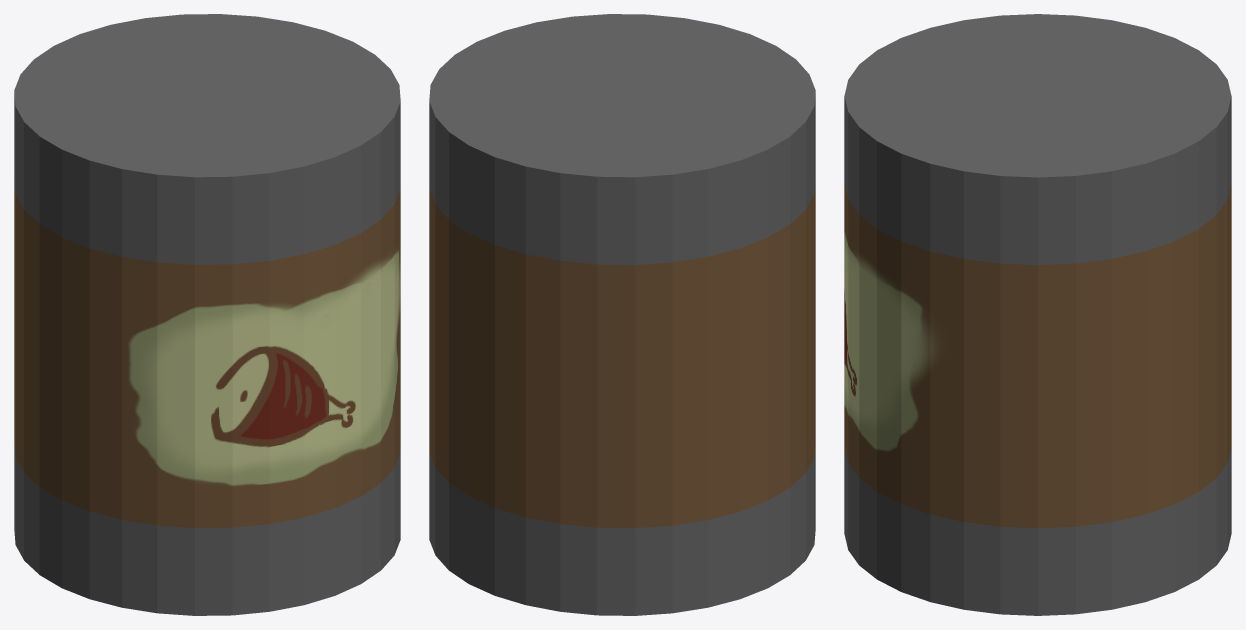
File: Food Can Meat.glb
3 renders of one model, left to right at view 1: azimuth 30°, elevation 25°; view 2: azimuth 150°, elevation 25°; view 3: azimuth 270°, elevation 25°, orthographic.
Visible parts, largest first — view 1: Cylinder; view 2: Cylinder; view 3: Cylinder.
Boxes of the visible parts, <box> form: Cylinder: <box>14,14,400,615</box>; Cylinder: <box>429,14,815,615</box>; Cylinder: <box>844,14,1231,615</box>.
Bounding box in the file's own units: 0.2 × 0.25 × 0.2.
2 materials, 1 textured.
